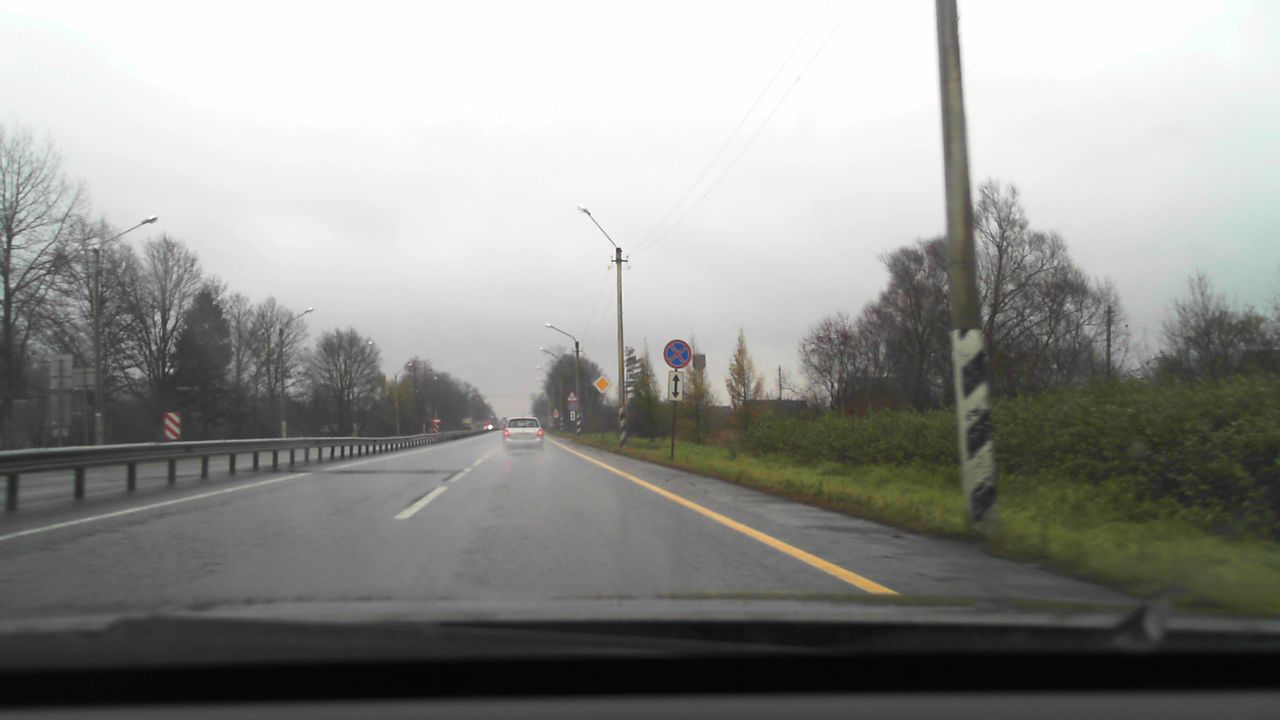No Parking: (663, 339, 691, 368)
